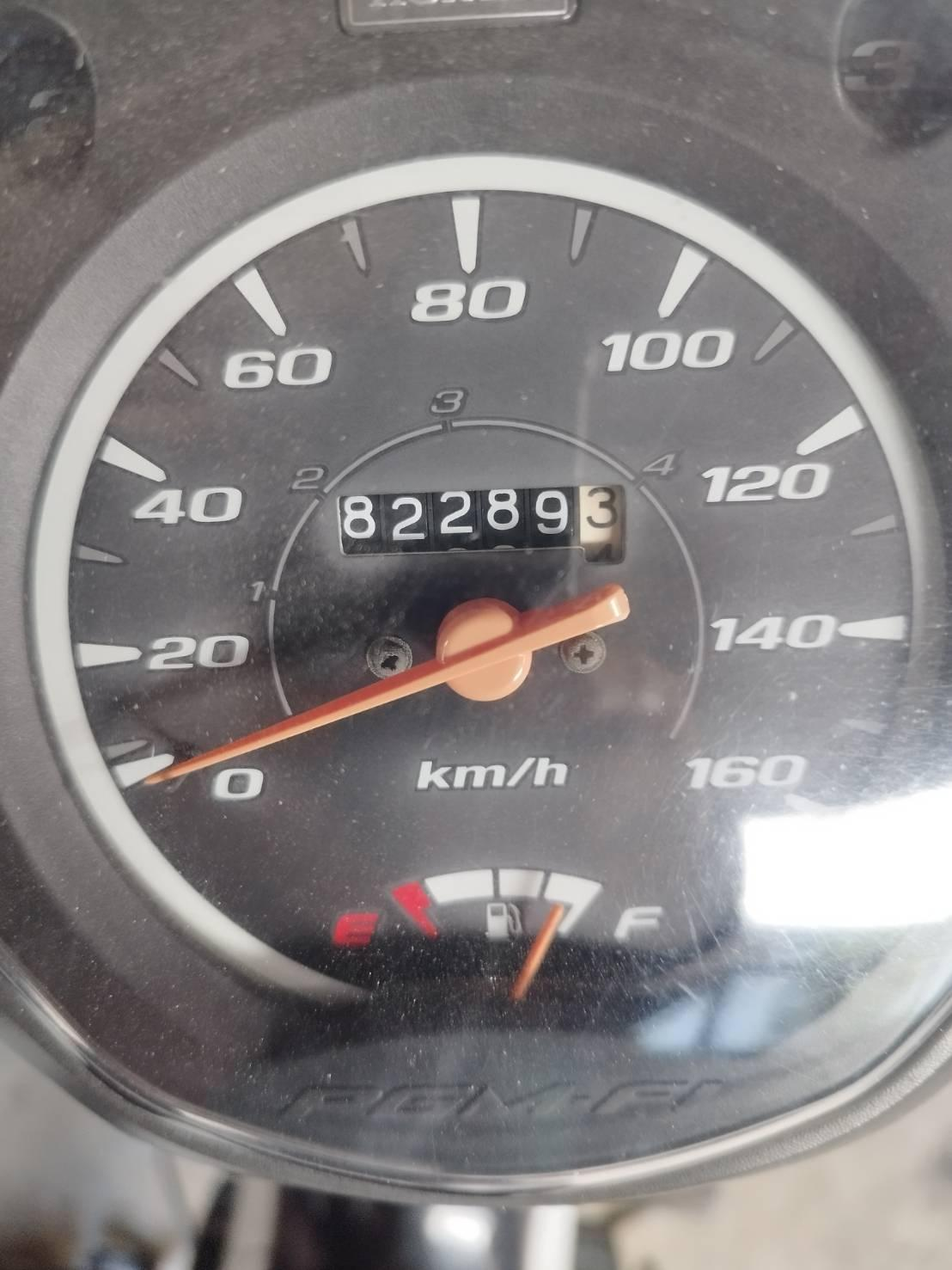2: (437, 491, 476, 537), (389, 496, 427, 543)
3: (584, 486, 620, 530)
8: (341, 494, 378, 541), (484, 489, 522, 533)
9: (534, 490, 569, 535)
odometer: (336, 477, 630, 572)
